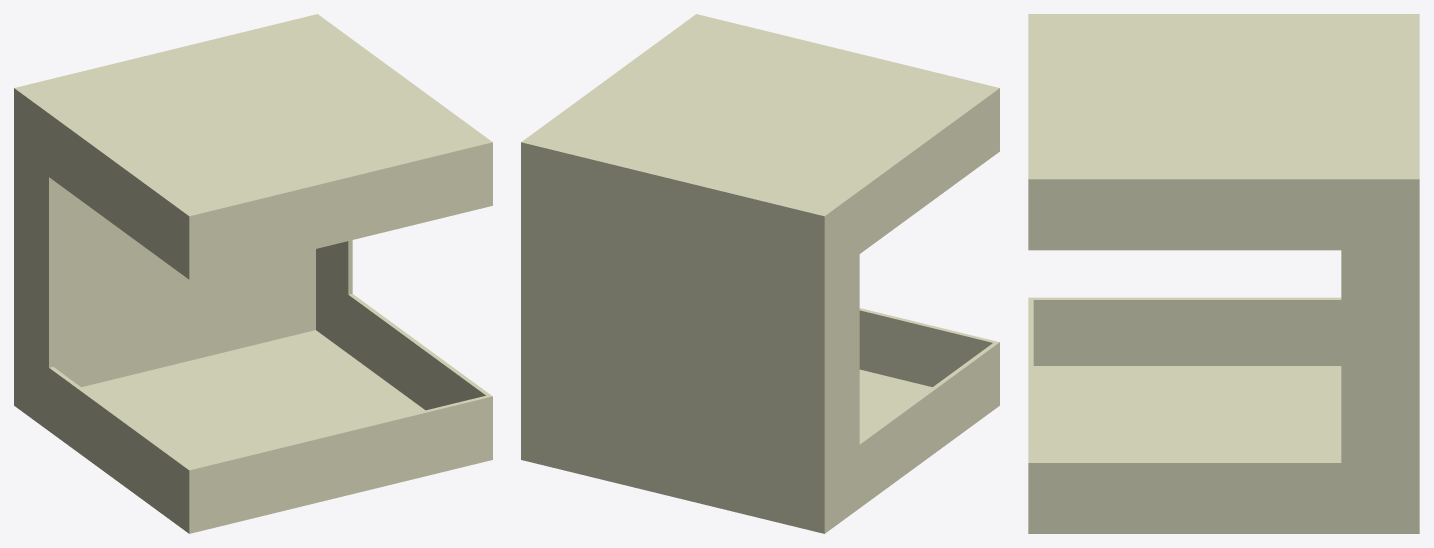
File: UPDATEDUVS_FunkoBox.fbx
3 renders of one model, left to right at view 1: azimuth 30°, elevation 25°; view 2: azimuth 150°, elevation 25°; view 3: azimuth 270°, elevation 25°, orthographic. The views are drawn at different scales.
Visible parts, largest first — view 1: polySurface1; view 2: polySurface1; view 3: polySurface1.
Boxes of the visible parts, x1,y1,x2,y2 form: polySurface1: [14, 14, 492, 533]; polySurface1: [521, 14, 999, 533]; polySurface1: [1028, 14, 1419, 533].
Bounding box in the file's own units: 18 × 18 × 18.
